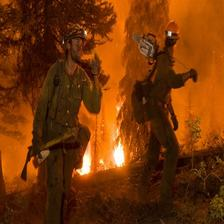fire: (73, 113, 147, 176)
